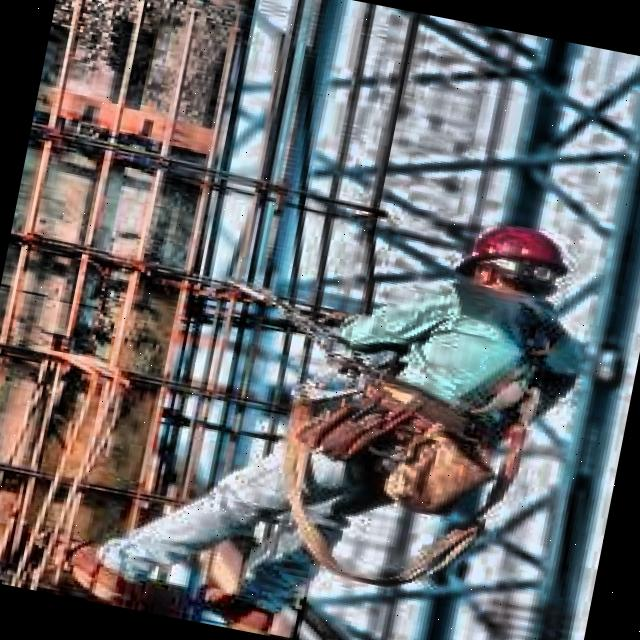helmet: (448, 208, 572, 316)
